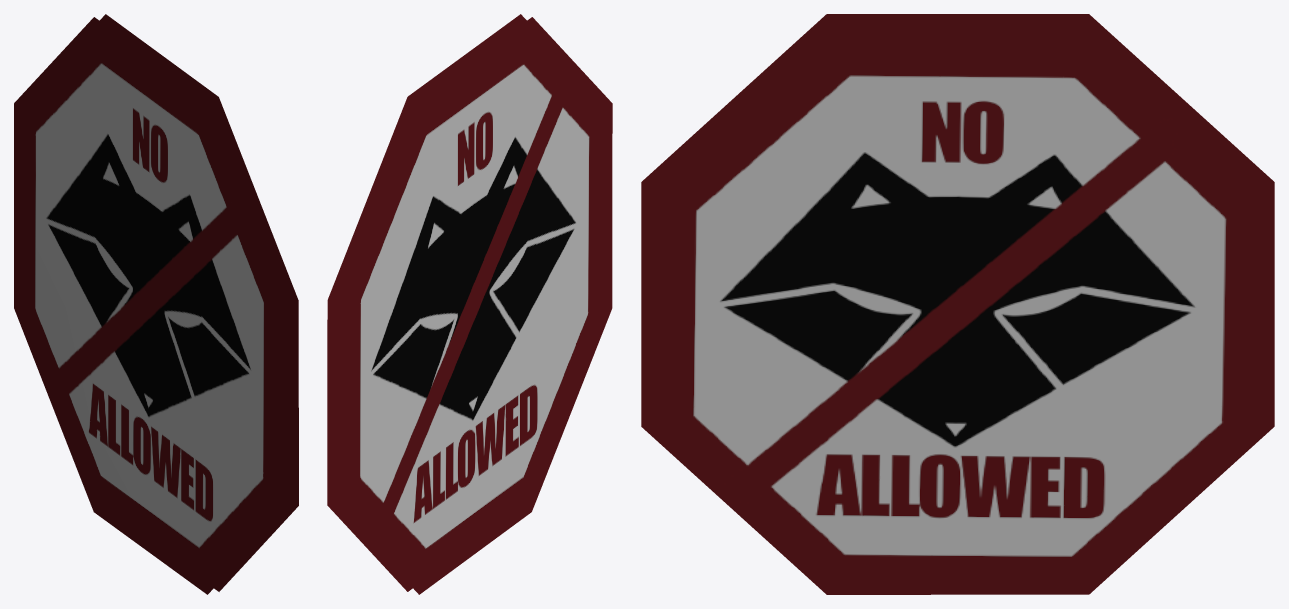
The model's file is SignPost.fbx.
The picture shows the model from 3 angles, left to right: view 1: azimuth 30°, elevation 25°; view 2: azimuth 150°, elevation 25°; view 3: azimuth 270°, elevation 25°; orthographic projection. The views are drawn at different scales.
Parts seen in each view (by area): view 1: Raccoon_Sign; view 2: Raccoon_Sign; view 3: Raccoon_Sign.
Boxes of the visible parts, bbox=[...] form: Raccoon_Sign: bbox=[14, 14, 298, 594]; Raccoon_Sign: bbox=[327, 14, 612, 594]; Raccoon_Sign: bbox=[641, 14, 1274, 594].
Size of the model in its own units: 0.0473 by 1.85 by 1.85.
1 material, 1 textured.
